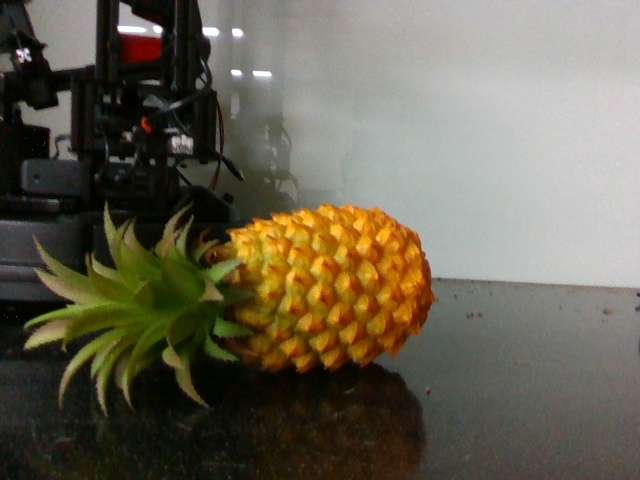pineapple: (31, 197, 434, 395)
